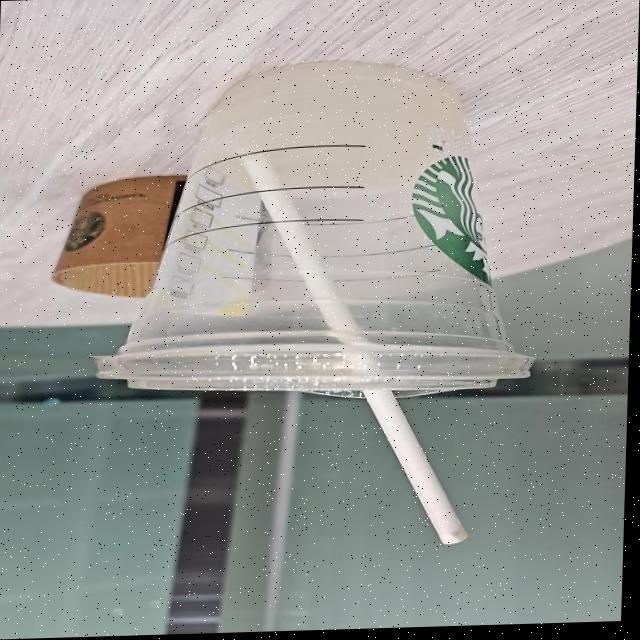cup: (78, 48, 557, 414)
